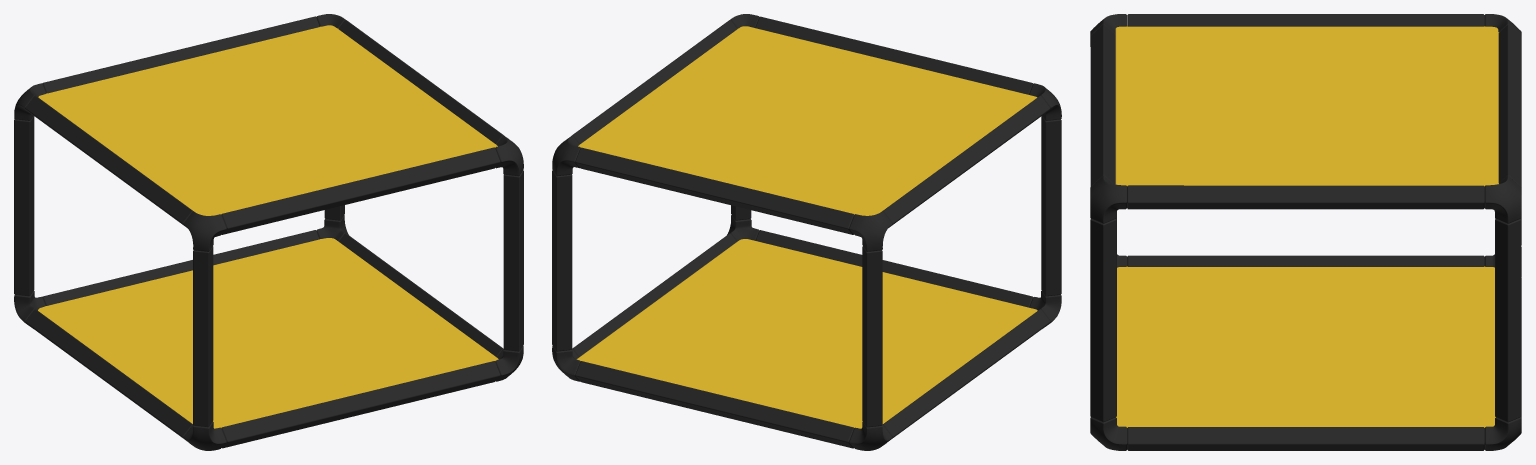
3 views of the same model, side by side, from view 1: azimuth 30°, elevation 25°; view 2: azimuth 150°, elevation 25°; view 3: azimuth 270°, elevation 25° (orthographic). The views are drawn at different scales.
Visible parts, largest first — view 1: 374x374x229; view 2: 374x374x229; view 3: 374x374x229.
Part boxes in pixels (<box>): 374x374x229: <box>14,14,523,450</box>; 374x374x229: <box>552,14,1061,450</box>; 374x374x229: <box>1090,14,1521,450</box>.
Size of the model in its own units: 0.4517 by 0.3067 by 0.4513.
